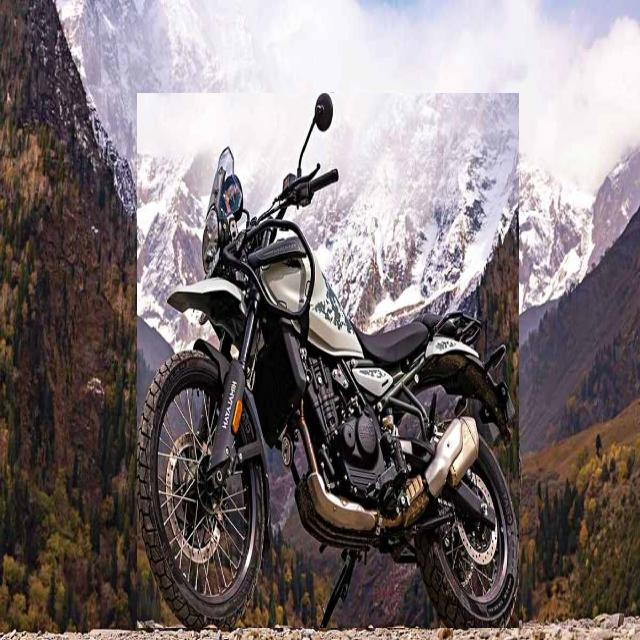motorcycle: (138, 93, 519, 628)
